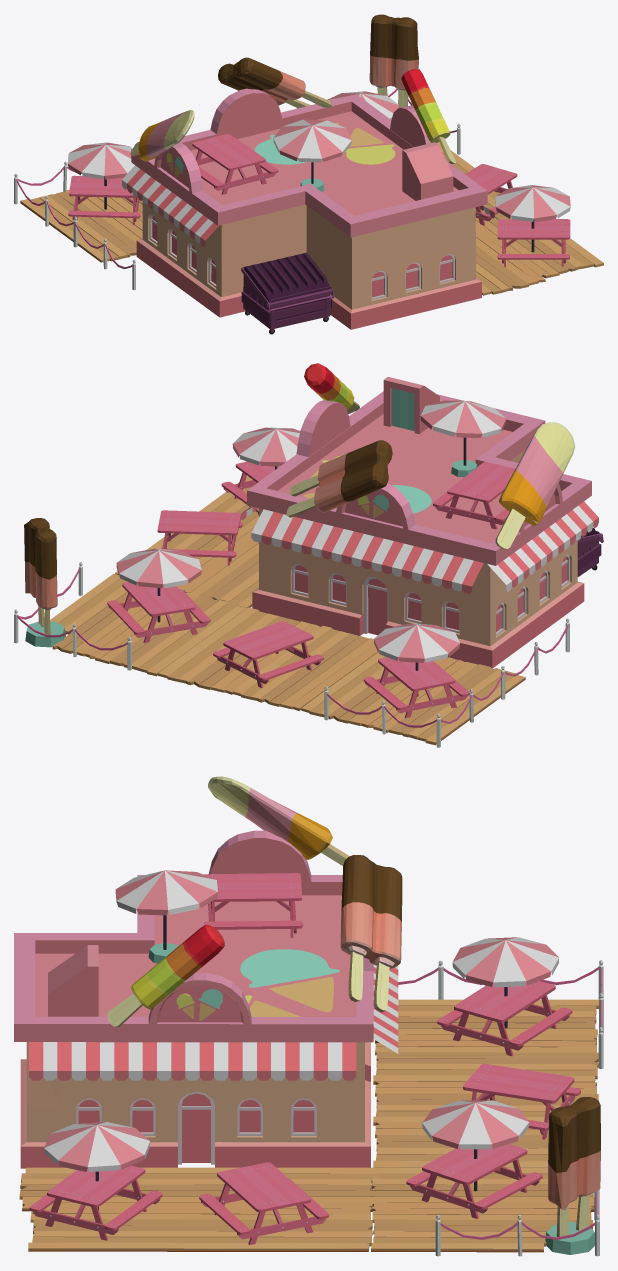
3 renders of one model, top to bottom at view 1: azimuth 30°, elevation 25°; view 2: azimuth 150°, elevation 25°; view 3: azimuth 270°, elevation 25°, orthographic. The views are drawn at different scales.
Parts seen in each view (by area): view 1: o-4, o-4Floor; view 2: o-4, o-4Floor; view 3: o-4, o-4Floor.
Part boxes in pixels (<box>): o-4: <box>14,14,570,334</box>; o-4Floor: <box>20,142,603,295</box>; o-4: <box>14,363,603,747</box>; o-4Floor: <box>50,476,525,745</box>; o-4: <box>14,776,603,1256</box>; o-4Floor: <box>19,999,598,1252</box>.
Size of the model in its own units: 0.9827 by 0.4412 by 0.9482.
